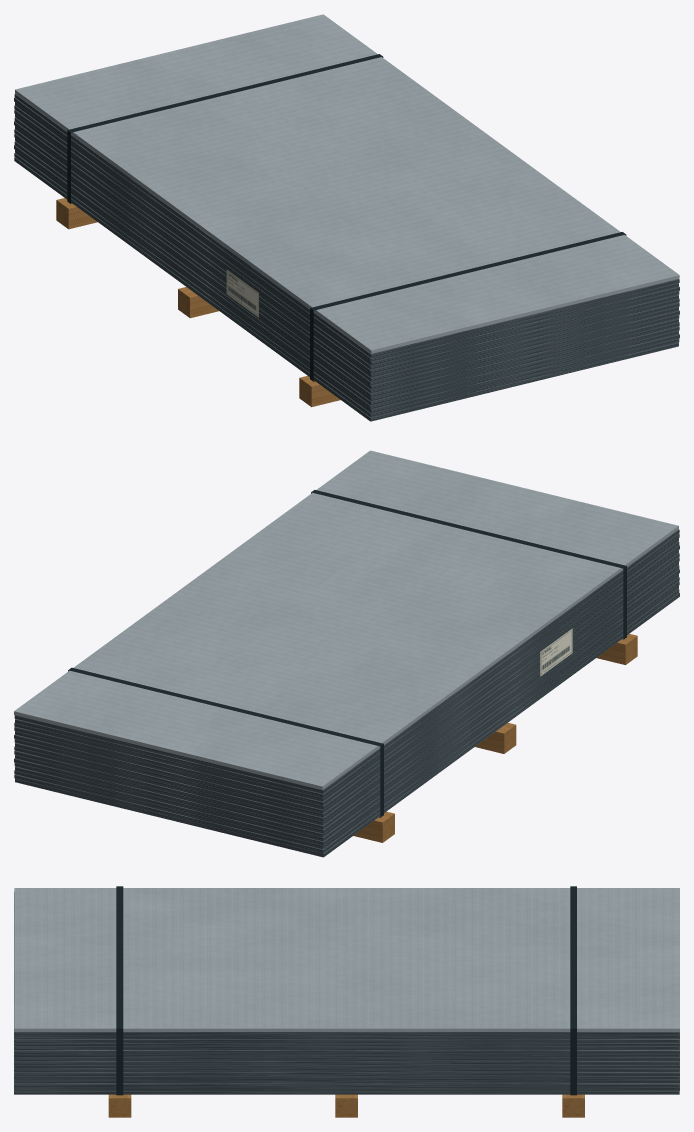
File: steel_plates.glb
3 renders of one model, top to bottom at view 1: azimuth 30°, elevation 25°; view 2: azimuth 150°, elevation 25°; view 3: azimuth 270°, elevation 25°, orthographic. The views are drawn at different scales.
Parts seen in each view (by area): view 1: Brushed rolled steel, Mill-scale steel, Steel banding, Pine dunnage, Packing label; view 2: Brushed rolled steel, Mill-scale steel, Steel banding, Pine dunnage, Packing label; view 3: Brushed rolled steel, Mill-scale steel, Steel banding, Pine dunnage.
Part boxes in pixels (<box>): Brushed rolled steel: <box>15,14,679,353</box>; Mill-scale steel: <box>14,93,679,421</box>; Steel banding: <box>67,54,626,381</box>; Pine dunnage: <box>56,198,340,407</box>; Packing label: <box>226,269,258,317</box>; Brushed rolled steel: <box>14,450,678,789</box>; Mill-scale steel: <box>14,529,679,857</box>; Steel banding: <box>68,490,626,817</box>; Pine dunnage: <box>353,634,637,842</box>; Packing label: <box>540,628,572,676</box>; Brushed rolled steel: <box>14,888,679,1031</box>; Mill-scale steel: <box>14,892,679,1094</box>; Steel banding: <box>116,886,576,1095</box>; Pine dunnage: <box>108,1094,584,1117</box>.
Size of the model in its own units: 2.32 by 0.626 by 4.4.
Materials: 5 (4 with a texture image).
